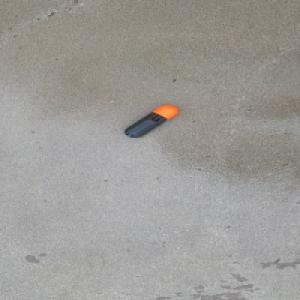PlasticPart: (123, 104, 178, 138)
